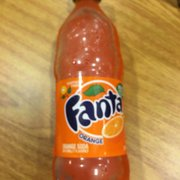fanta: (53, 1, 130, 180)
